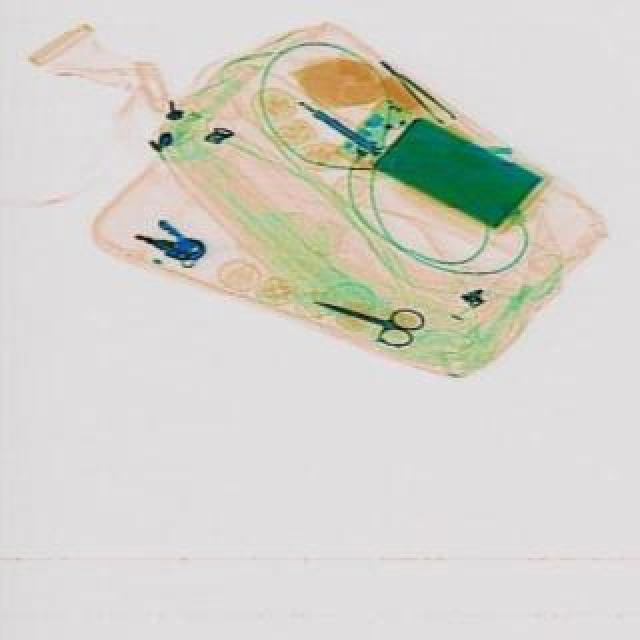pliers: (300, 282, 424, 358)
